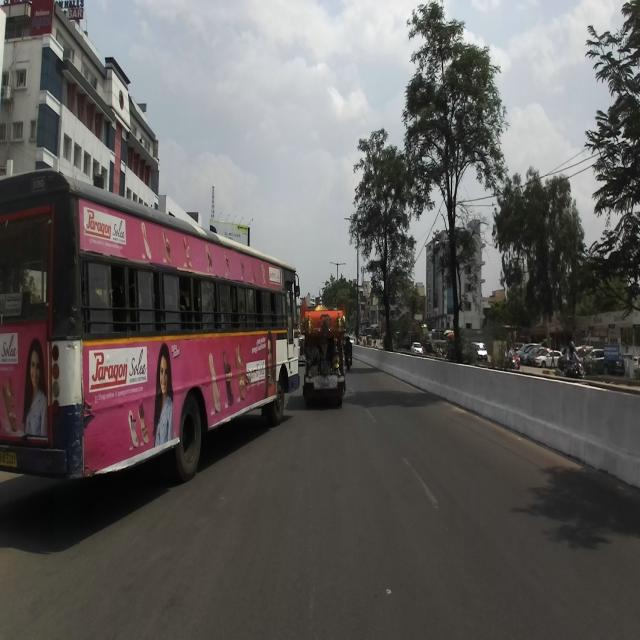bus: (0, 166, 299, 483)
